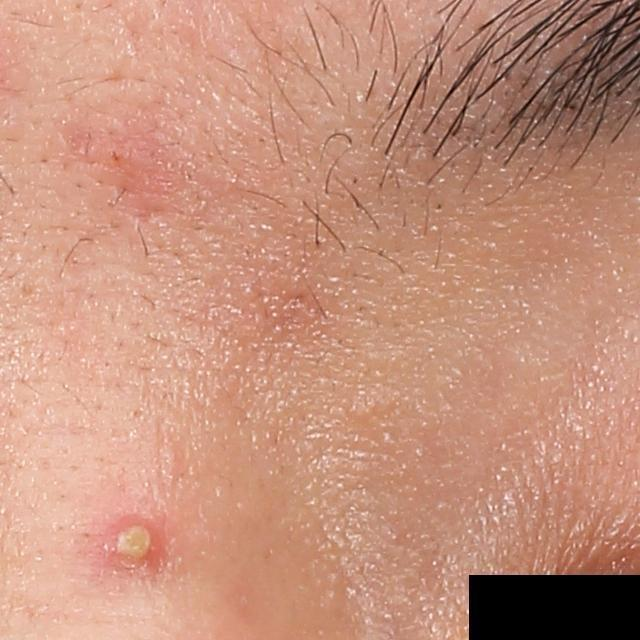pustule: (98, 518, 166, 583)
